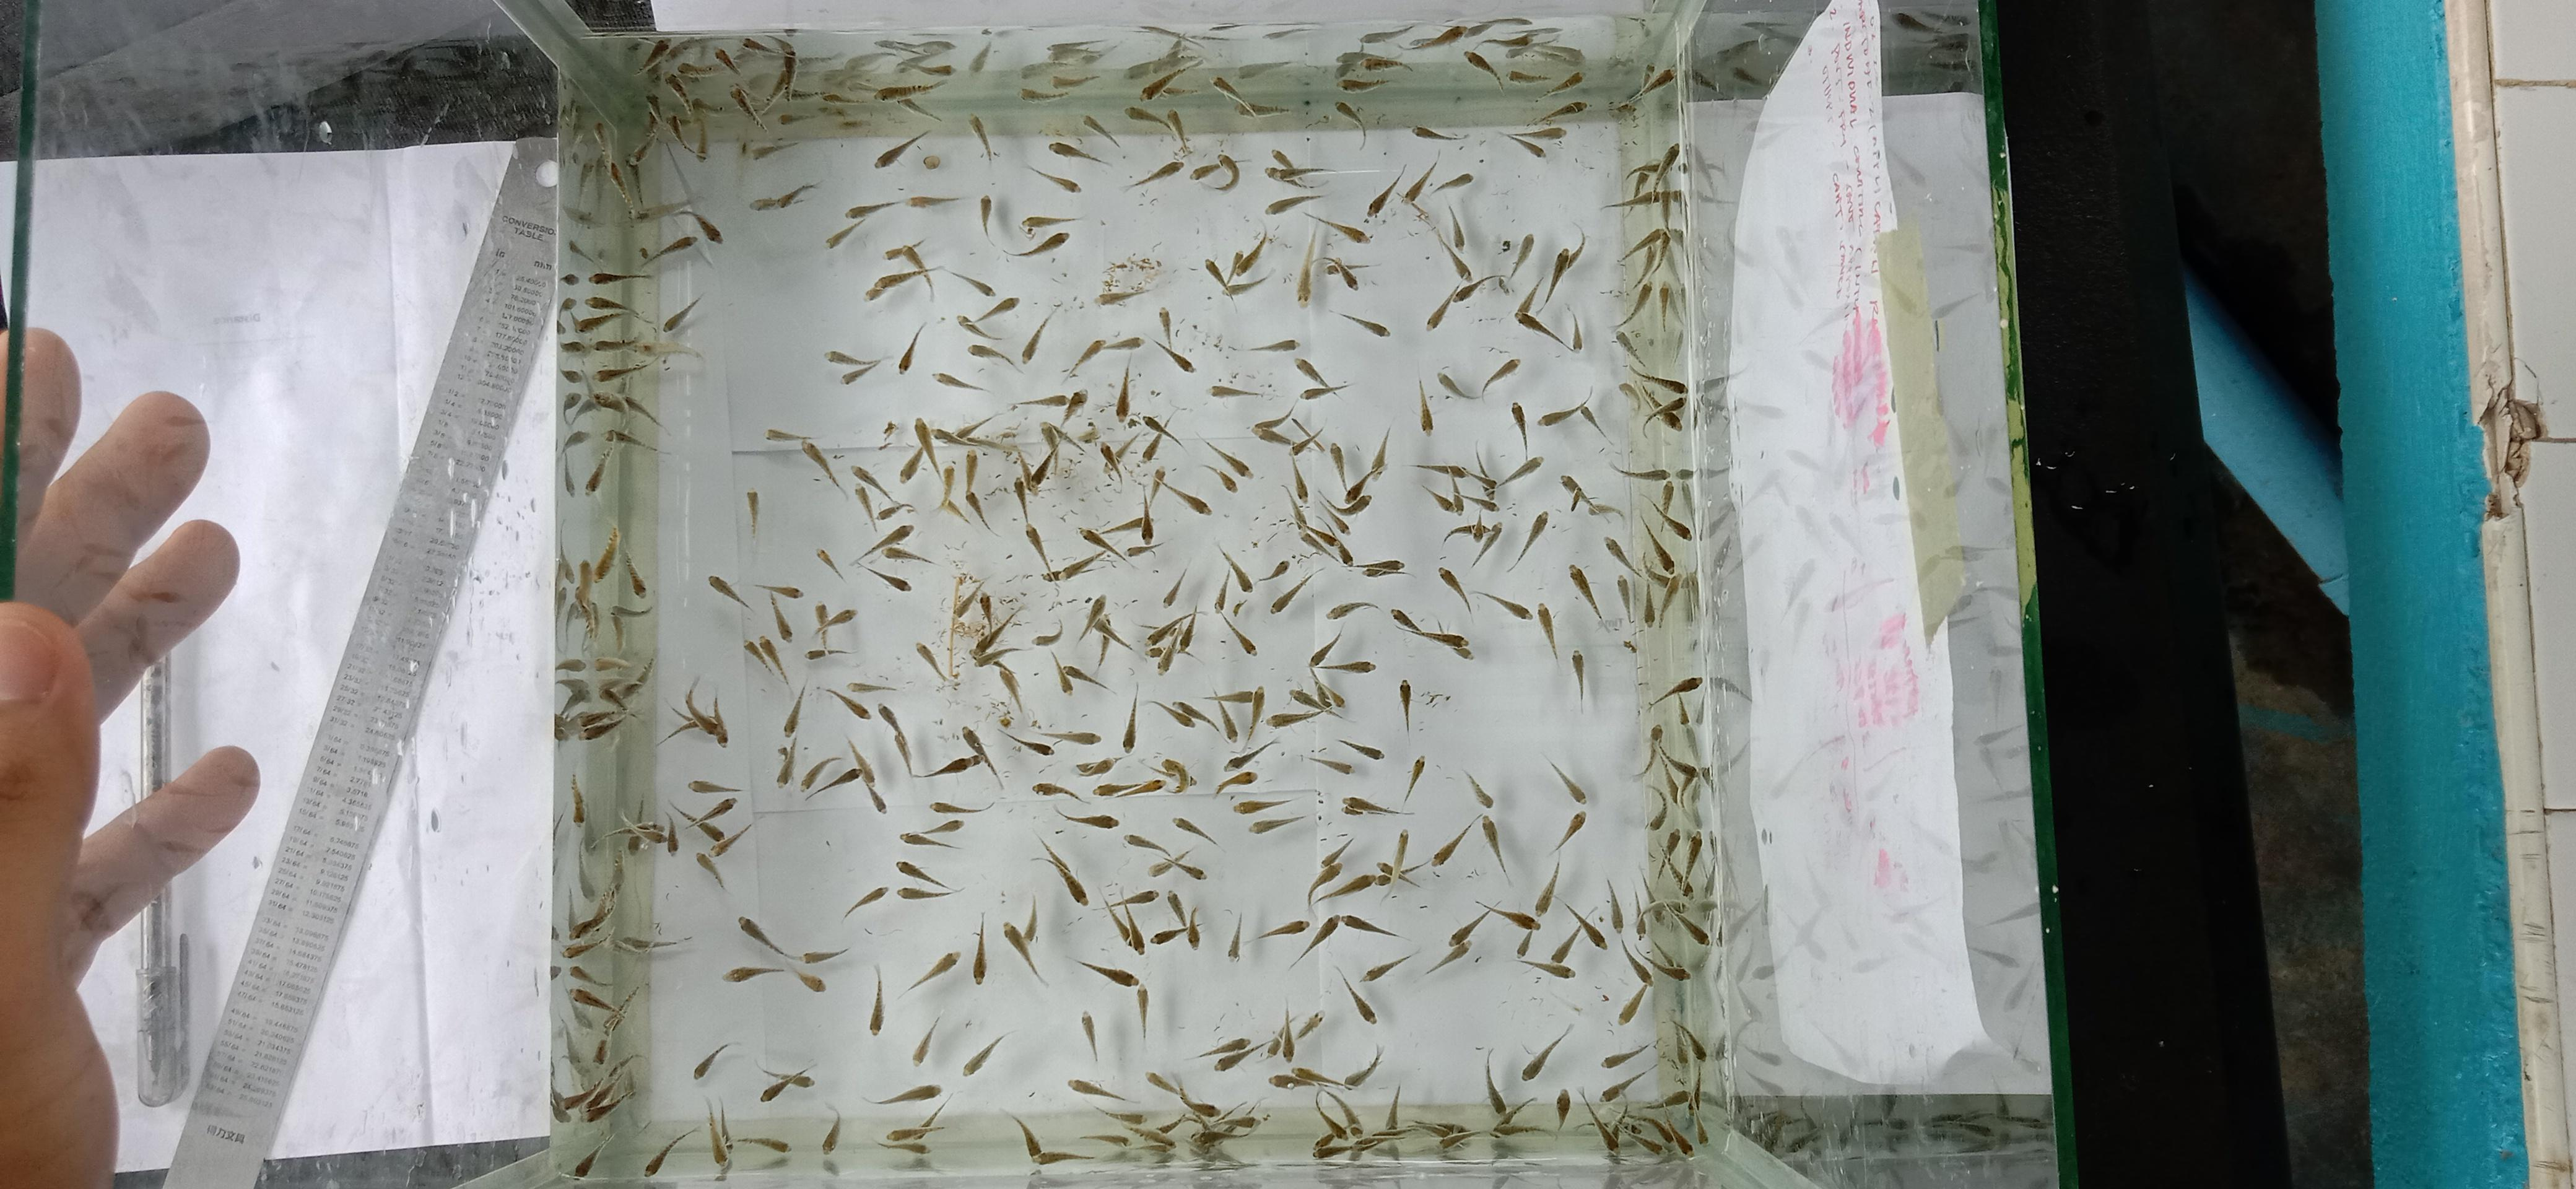fish: (1332, 18, 1580, 110), (1073, 445, 1234, 563), (1278, 424, 1395, 570), (1033, 834, 1150, 953), (905, 415, 1010, 537), (816, 39, 954, 128), (642, 1097, 790, 1179), (555, 524, 651, 650), (1145, 1067, 1270, 1155), (1426, 233, 1534, 330), (713, 33, 798, 131), (1311, 1084, 1411, 1164), (1293, 213, 1375, 307), (877, 703, 976, 780), (900, 723, 1004, 792), (798, 737, 887, 813), (1470, 588, 1561, 660), (1288, 913, 1401, 971), (1474, 861, 1561, 933), (1019, 39, 1119, 102), (1074, 957, 1150, 1040), (1602, 141, 1684, 213), (1403, 197, 1474, 279), (936, 452, 1004, 537), (560, 1054, 642, 1123), (1418, 1118, 1549, 1161), (764, 429, 849, 494), (736, 915, 848, 964), (1329, 425, 1391, 512), (1456, 233, 1536, 301), (1341, 755, 1428, 816), (1267, 1046, 1382, 1092), (1285, 486, 1350, 567), (1022, 524, 1104, 585), (657, 678, 728, 749), (1644, 826, 1710, 900), (747, 123, 866, 164), (598, 798, 678, 857), (1618, 368, 1689, 435), (1005, 1113, 1092, 1168), (1513, 282, 1580, 351), (1426, 273, 1503, 330), (1188, 1099, 1268, 1153), (567, 862, 624, 938), (968, 593, 1025, 668), (1423, 910, 1487, 977), (1000, 897, 1048, 987), (1099, 882, 1158, 954), (1410, 16, 1533, 51), (1102, 476, 1160, 550), (1089, 1107, 1184, 1151), (1635, 724, 1700, 788), (1390, 608, 1472, 659), (1483, 1048, 1534, 1130), (1495, 402, 1544, 486), (1012, 476, 1053, 576), (596, 122, 641, 213), (1492, 1089, 1571, 1140), (555, 547, 598, 640), (1122, 833, 1206, 880), (881, 1095, 951, 1151), (1096, 250, 1166, 305), (632, 200, 721, 245), (1475, 455, 1544, 511), (1250, 406, 1326, 457), (1145, 1071, 1221, 1122), (1436, 356, 1521, 401), (1217, 544, 1291, 594), (1255, 1007, 1322, 1063), (935, 414, 1022, 457), (1078, 594, 1132, 662), (1035, 836, 1088, 905), (1635, 900, 1710, 948), (1212, 576, 1257, 657), (1143, 608, 1198, 673), (662, 62, 728, 117), (1306, 834, 1354, 908), (1538, 389, 1607, 440), (825, 200, 897, 248), (1209, 74, 1286, 118), (1065, 333, 1143, 376), (1516, 926, 1580, 979), (744, 39, 797, 103), (1621, 1112, 1694, 1158), (1209, 685, 1265, 744), (851, 465, 913, 517), (1543, 230, 1585, 305), (844, 737, 887, 813), (1671, 1020, 1709, 1105), (669, 796, 736, 844), (1520, 1023, 1574, 1082), (1368, 1084, 1413, 1156), (1334, 51, 1411, 92), (1125, 103, 1191, 151), (1150, 890, 1203, 949), (1421, 478, 1500, 517), (568, 985, 636, 1031), (1577, 1089, 1620, 1161), (1375, 829, 1424, 892), (1441, 519, 1503, 568), (1559, 475, 1623, 522), (573, 296, 651, 335), (593, 338, 701, 366), (1203, 256, 1273, 299), (1403, 161, 1474, 204), (805, 601, 856, 660), (885, 240, 936, 299), (821, 51, 897, 90), (1612, 64, 1674, 112), (1414, 447, 1492, 484), (1147, 696, 1221, 736), (1644, 570, 1694, 629), (723, 964, 826, 992), (956, 294, 1019, 340), (1618, 227, 1671, 281), (961, 452, 996, 534), (590, 391, 664, 429), (1263, 148, 1334, 187), (1313, 1132, 1401, 1163), (1286, 918, 1339, 971), (941, 576, 968, 682), (642, 1127, 698, 1176), (961, 724, 1004, 788), (1015, 388, 1088, 425), (1308, 632, 1373, 673), (1534, 74, 1587, 125), (877, 703, 913, 777), (1232, 788, 1322, 818), (1140, 57, 1203, 100), (874, 38, 954, 71), (1019, 71, 1102, 102), (1625, 141, 1681, 187), (1334, 964, 1377, 1023), (854, 522, 913, 565), (600, 663, 651, 713), (1314, 1090, 1364, 1141), (1508, 511, 1549, 572), (905, 949, 959, 995), (1321, 869, 1387, 907), (1296, 522, 1352, 567), (1638, 519, 1677, 581), (626, 97, 662, 164), (1053, 652, 1112, 693), (1567, 563, 1605, 627), (935, 463, 973, 527), (1293, 356, 1349, 399), (864, 268, 933, 302), (833, 420, 899, 457), (961, 1030, 1012, 1076), (1020, 304, 1060, 363), (800, 440, 844, 493), (1288, 678, 1347, 718), (908, 417, 945, 481), (554, 680, 591, 741), (1020, 57, 1102, 85), (1474, 898, 1539, 933), (743, 636, 789, 685), (1479, 816, 1511, 885), (1643, 494, 1692, 540), (1561, 900, 1607, 949), (1214, 1036, 1276, 1072), (802, 764, 861, 801), (749, 181, 820, 212), (1365, 163, 1405, 218), (1293, 227, 1321, 305), (1500, 233, 1536, 294), (705, 1095, 733, 1173), (1157, 476, 1211, 516), (1138, 414, 1184, 460), (872, 131, 928, 169), (825, 348, 881, 386), (1127, 43, 1183, 80), (1431, 819, 1474, 869), (992, 660, 1027, 721), (1097, 435, 1138, 486), (1007, 1113, 1048, 1164), (1125, 156, 1184, 191), (1015, 445, 1060, 491), (669, 112, 710, 161), (1138, 21, 1240, 41), (1600, 1066, 1653, 1104), (895, 859, 953, 893), (1270, 572, 1316, 614), (609, 603, 652, 649), (1648, 675, 1702, 711), (692, 1041, 739, 1082), (1148, 754, 1196, 795), (1038, 420, 1086, 461), (1191, 151, 1240, 191), (613, 933, 692, 957), (1203, 438, 1252, 478), (1074, 959, 1140, 989), (943, 411, 1002, 443), (1322, 256, 1378, 291), (1414, 1120, 1470, 1155), (1483, 1048, 1511, 1117), (950, 572, 987, 622), (1483, 28, 1561, 53), (1613, 575, 1638, 652), (899, 819, 963, 849), (1308, 215, 1372, 245), (1362, 949, 1419, 982), (1104, 250, 1161, 282), (1004, 230, 1071, 258), (1641, 943, 1690, 980), (1602, 189, 1682, 212), (1472, 590, 1531, 621), (1043, 553, 1102, 585), (565, 391, 628, 420), (820, 685, 871, 721), (588, 526, 621, 581), (560, 430, 588, 496), (1679, 831, 1707, 897), (798, 755, 841, 798), (1318, 491, 1360, 534), (1546, 759, 1587, 803), (1230, 230, 1268, 278), (637, 36, 685, 74), (1490, 1127, 1551, 1156), (1633, 724, 1664, 782), (759, 1071, 813, 1104), (874, 79, 946, 103), (1078, 527, 1127, 563), (1217, 544, 1253, 593), (606, 159, 639, 213), (1341, 1046, 1382, 1089), (1194, 1036, 1253, 1066), (641, 233, 697, 264), (1268, 1066, 1339, 1090), (706, 575, 752, 613), (1615, 281, 1653, 327), (1053, 805, 1119, 831), (1436, 567, 1472, 614), (1250, 404, 1298, 440), (1495, 455, 1544, 489), (999, 726, 1053, 757), (1446, 911, 1487, 953), (1046, 140, 1111, 166), (1603, 537, 1643, 580), (1217, 613, 1257, 655), (1401, 159, 1439, 204), (729, 84, 766, 130), (1426, 284, 1462, 330), (1148, 851, 1204, 880), (1423, 943, 1470, 977), (1022, 524, 1053, 576), (818, 99, 871, 130), (1464, 48, 1503, 89), (1137, 1117, 1186, 1150), (1341, 795, 1416, 816), (710, 821, 752, 859), (1027, 164, 1081, 194), (843, 885, 887, 921), (1600, 1041, 1654, 1071), (915, 640, 951, 685), (767, 49, 797, 103), (1094, 1107, 1148, 1136), (550, 1086, 595, 1122), (1150, 338, 1196, 373), (1551, 811, 1585, 857), (1337, 913, 1401, 938), (943, 268, 996, 297), (1065, 337, 1104, 376), (568, 588, 598, 640), (1635, 900, 1687, 930), (660, 296, 701, 333), (1081, 113, 1122, 151), (851, 463, 892, 501), (1643, 396, 1686, 432), (1671, 1020, 1707, 1063), (1226, 737, 1275, 769), (1492, 1099, 1536, 1133), (1533, 861, 1561, 915), (1410, 23, 1467, 49), (1045, 39, 1111, 62), (871, 1084, 941, 1105), (1378, 1084, 1408, 1135), (1658, 282, 1687, 333), (1480, 358, 1520, 396), (572, 1138, 609, 1178), (578, 709, 626, 741), (1313, 836, 1354, 872), (637, 340, 701, 363), (1658, 749, 1700, 783), (897, 322, 925, 374), (969, 640, 1022, 668), (910, 1015, 940, 1064), (1092, 778, 1165, 798), (1365, 425, 1391, 480), (1265, 192, 1322, 217), (1615, 985, 1649, 1026), (1454, 273, 1502, 302), (1019, 213, 1084, 235), (1421, 483, 1464, 516), (1621, 944, 1654, 987), (606, 427, 659, 453), (780, 683, 807, 736), (968, 342, 1017, 370), (585, 296, 641, 320), (1321, 488, 1370, 516), (1311, 1135, 1360, 1163), (1171, 816, 1217, 846), (1516, 956, 1575, 979), (1120, 682, 1140, 751), (917, 755, 976, 778), (1671, 911, 1710, 946), (1102, 509, 1148, 539), (693, 849, 726, 890), (621, 396, 662, 429), (631, 200, 693, 222), (813, 601, 856, 632), (885, 238, 928, 269), (1413, 460, 1475, 481), (1163, 107, 1191, 154), (1079, 594, 1107, 642), (1066, 1077, 1124, 1100), (931, 370, 989, 393), (1536, 603, 1559, 660), (971, 913, 989, 985), (1290, 420, 1326, 457), (1339, 310, 1388, 337), (1635, 370, 1687, 394), (1037, 726, 1101, 746), (956, 310, 999, 340), (895, 56, 954, 77), (1401, 754, 1426, 805), (743, 31, 793, 56), (968, 113, 994, 161), (560, 933, 608, 959), (687, 210, 723, 245), (1308, 632, 1342, 668), (938, 496, 974, 530), (1464, 770, 1495, 810), (1249, 815, 1306, 836), (1534, 100, 1587, 123), (1275, 1008, 1298, 1061), (876, 1132, 928, 1155), (749, 138, 802, 161), (1096, 282, 1148, 305), (1114, 363, 1134, 424), (1610, 463, 1671, 483), (1237, 59, 1298, 79), (1359, 23, 1414, 44), (1212, 770, 1255, 798), (1479, 20, 1534, 41), (1253, 420, 1296, 448), (1104, 885, 1160, 907), (862, 567, 910, 591), (669, 61, 716, 85), (567, 964, 614, 989), (775, 739, 800, 787), (1303, 752, 1354, 775), (1388, 829, 1411, 880), (583, 450, 609, 494), (1505, 125, 1564, 145), (664, 74, 693, 113), (867, 964, 884, 1035), (843, 200, 897, 222), (623, 552, 647, 598), (723, 966, 780, 985), (853, 486, 877, 532), (1534, 43, 1584, 66), (1124, 833, 1170, 857), (1124, 103, 1170, 128), (563, 393, 600, 424), (1293, 356, 1329, 388), (1293, 1010, 1324, 1046), (1326, 601, 1378, 622), (1255, 918, 1308, 939), (595, 363, 647, 384), (900, 99, 943, 125), (555, 677, 593, 706), (1436, 370, 1474, 399), (1508, 402, 1528, 458), (1605, 879, 1625, 934), (1288, 457, 1311, 504), (573, 312, 621, 335), (1327, 442, 1350, 489), (769, 598, 793, 642), (820, 1104, 841, 1155), (1506, 133, 1548, 159), (1161, 567, 1188, 608), (1048, 647, 1071, 693), (930, 800, 994, 816), (897, 884, 961, 900), (1416, 378, 1434, 435), (1232, 796, 1290, 815), (1252, 558, 1291, 585), (1446, 204, 1467, 251), (885, 545, 933, 567), (1209, 381, 1265, 399), (1060, 389, 1088, 425), (1201, 465, 1237, 493), (895, 447, 923, 483), (1051, 71, 1102, 90), (1079, 1133, 1130, 1153), (818, 90, 869, 110), (1559, 475, 1585, 512), (1442, 521, 1485, 544), (626, 133, 657, 164), (1618, 381, 1649, 412), (816, 547, 844, 581), (825, 222, 859, 250), (1138, 494, 1157, 547), (1339, 739, 1383, 760), (590, 269, 654, 284), (1562, 307, 1584, 351), (1301, 381, 1349, 401), (1019, 895, 1038, 943), (1334, 100, 1365, 130), (1613, 330, 1643, 361), (688, 778, 739, 796), (1267, 711, 1318, 729), (733, 1136, 789, 1153), (1030, 621, 1065, 647), (1145, 1071, 1180, 1097), (1079, 1012, 1097, 1061), (1032, 782, 1081, 800), (1571, 650, 1587, 705), (567, 240, 603, 264), (1134, 987, 1150, 1041), (687, 95, 728, 117), (555, 545, 575, 590), (713, 48, 743, 77), (1212, 570, 1232, 614), (966, 43, 994, 74), (1585, 499, 1623, 522), (1019, 85, 1071, 102), (1339, 76, 1387, 94), (568, 778, 586, 826), (1548, 71, 1582, 95), (1316, 659, 1373, 673), (1431, 172, 1474, 192), (590, 393, 629, 414), (874, 499, 913, 521), (1411, 123, 1457, 141), (1073, 759, 1114, 778), (798, 948, 848, 964), (1102, 333, 1143, 353), (555, 297, 577, 335), (1398, 678, 1413, 732), (1184, 905, 1203, 949), (1245, 338, 1298, 353), (1265, 25, 1318, 39), (846, 678, 899, 693), (662, 813, 680, 856), (756, 583, 802, 599), (805, 645, 851, 662), (1155, 642, 1178, 675), (908, 194, 959, 209), (611, 601, 652, 619), (1506, 67, 1548, 85), (1554, 1089, 1572, 1130), (1360, 560, 1405, 576), (1227, 911, 1242, 961), (876, 420, 899, 452), (744, 489, 759, 537), (793, 971, 826, 992), (593, 655, 631, 673), (1150, 926, 1188, 944), (1124, 540, 1161, 558), (979, 194, 994, 240), (554, 713, 577, 742), (764, 429, 810, 443), (591, 337, 636, 351), (1656, 1089, 1692, 1107), (1229, 596, 1257, 619), (1157, 305, 1173, 343), (1515, 928, 1534, 959), (775, 112, 812, 128), (562, 430, 588, 452), (917, 61, 954, 76), (1268, 1072, 1301, 1089), (559, 365, 585, 384), (1421, 691, 1452, 708), (555, 657, 586, 673), (559, 340, 588, 356), (920, 153, 943, 169), (559, 271, 578, 287)
